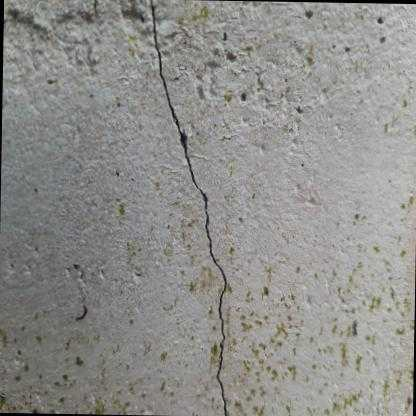crack: (152, 5, 227, 416)
